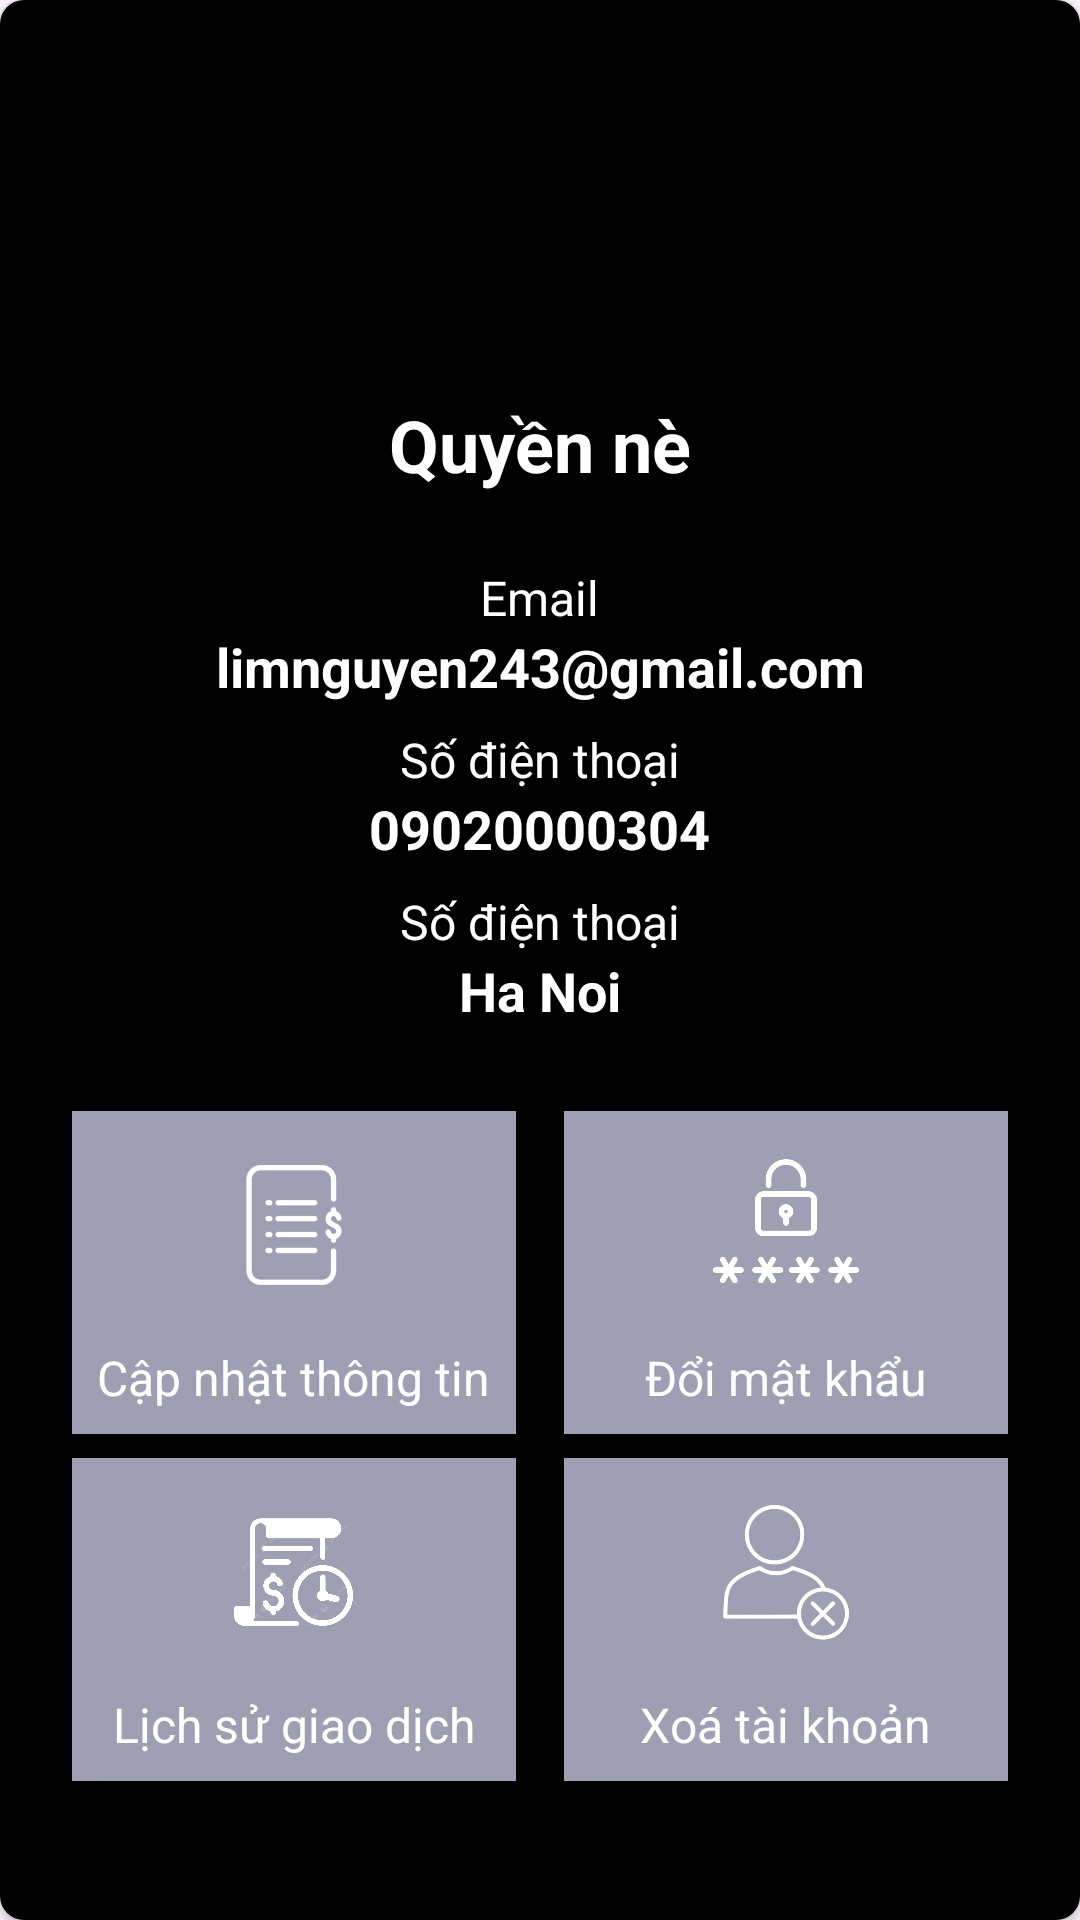

Named icons in this screenshot (1080px x 1920px) and their centers, [x,y]:
deleteuser: [786,1572]
history: [293,1572]
invoice: [294,1225]
pass: [786,1221]
